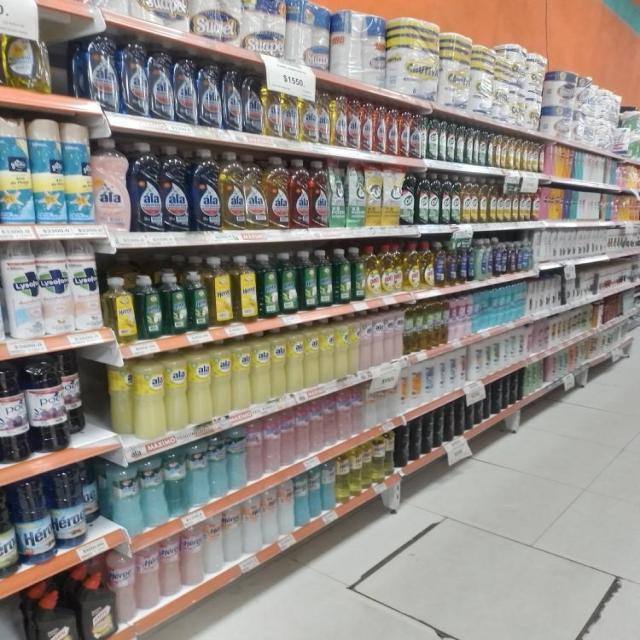ala_conc_amarillo: (220, 150, 243, 230), (266, 156, 289, 230), (244, 154, 265, 230), (280, 86, 298, 141), (263, 80, 280, 138), (300, 89, 316, 143), (332, 92, 346, 148), (317, 91, 331, 145)
ala_conc_azul: (132, 141, 162, 233), (162, 144, 190, 232), (88, 33, 119, 111), (192, 148, 220, 232), (121, 38, 149, 116), (150, 47, 173, 120), (198, 60, 222, 128), (175, 55, 197, 124), (242, 71, 262, 134), (223, 66, 242, 132)
ala_conc_rojo: (289, 158, 309, 229), (310, 160, 328, 228), (329, 160, 345, 228), (347, 97, 360, 150), (362, 100, 374, 152), (374, 103, 386, 154), (387, 106, 398, 156), (398, 109, 409, 157), (410, 111, 419, 158)
ala_crem_amarillo: (133, 352, 164, 439), (106, 355, 132, 436), (188, 344, 211, 425), (165, 348, 187, 432), (212, 340, 231, 417), (251, 331, 270, 404), (232, 336, 250, 412), (287, 324, 303, 395), (271, 327, 285, 399), (304, 322, 319, 388), (320, 318, 334, 384), (334, 316, 348, 380)
ala_crem_rosado: (136, 544, 160, 611), (182, 524, 204, 588), (160, 536, 180, 598), (359, 312, 371, 372), (372, 310, 384, 368), (348, 314, 359, 376), (384, 306, 394, 364), (392, 306, 402, 362)
ala_ultra_rosa: (94, 138, 130, 232)
cif_conc_bot_amarilla: (468, 177, 478, 223), (478, 178, 488, 223), (462, 176, 471, 224), (520, 187, 530, 222), (489, 180, 497, 222), (511, 186, 520, 222), (502, 183, 510, 222), (498, 135, 504, 168)
cif_conc_botella_verde: (401, 171, 416, 225), (416, 172, 428, 225), (430, 174, 440, 224), (451, 176, 461, 224), (440, 176, 450, 224), (428, 116, 438, 160), (418, 111, 426, 159), (439, 119, 447, 161), (447, 122, 455, 162), (486, 132, 495, 166), (475, 130, 483, 166), (456, 124, 463, 163)
cif_conc_sachet_amarillo: (383, 166, 400, 226), (366, 164, 382, 227)
heroe: (109, 548, 136, 626)
magistral_con_amarillo: (1, 18, 44, 90)
odex: (404, 241, 419, 291), (420, 241, 433, 289)
